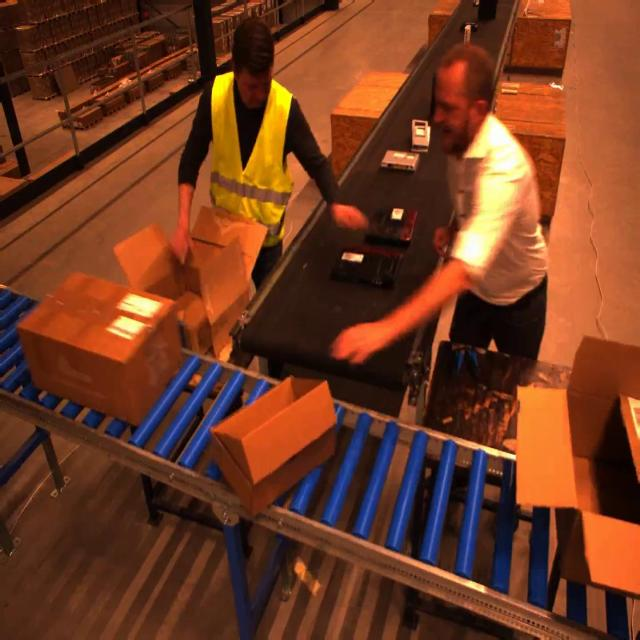box: (518, 336, 640, 614), (17, 273, 184, 425), (115, 210, 263, 362), (208, 374, 337, 518)
product: (330, 246, 404, 290), (365, 207, 417, 247), (380, 150, 419, 172), (411, 119, 431, 151), (460, 21, 478, 35), (463, 24, 471, 45)
